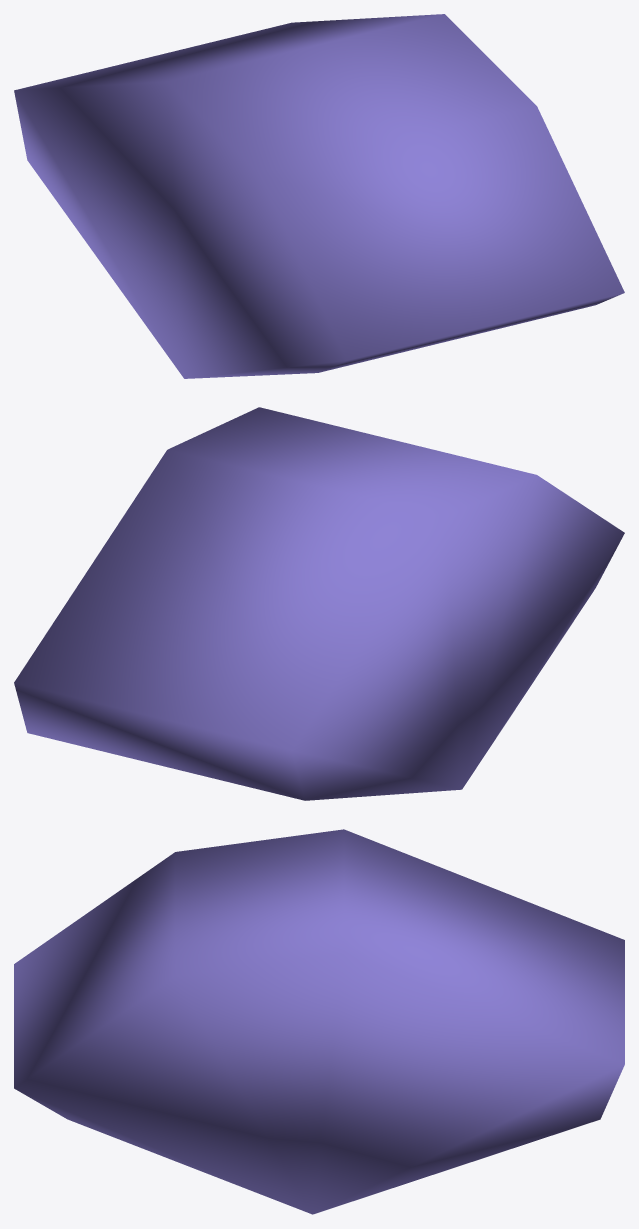
Rendered from Cactus_Leafy_01_SPR_COL.fbx.
The picture shows the model from 3 angles, top to bottom: view 1: azimuth 30°, elevation 25°; view 2: azimuth 150°, elevation 25°; view 3: azimuth 270°, elevation 25°; orthographic projection. The views are drawn at different scales.
Parts seen in each view (by area): view 1: Cactus_Leafy_01_SPR_COL; view 2: Cactus_Leafy_01_SPR_COL; view 3: Cactus_Leafy_01_SPR_COL.
Boxes of the visible parts, x1,y1,x2,y2 form: Cactus_Leafy_01_SPR_COL: [14, 14, 624, 378]; Cactus_Leafy_01_SPR_COL: [14, 407, 624, 800]; Cactus_Leafy_01_SPR_COL: [14, 829, 624, 1214].
Size of the model in its own units: 66.62 by 65.23 by 138.
